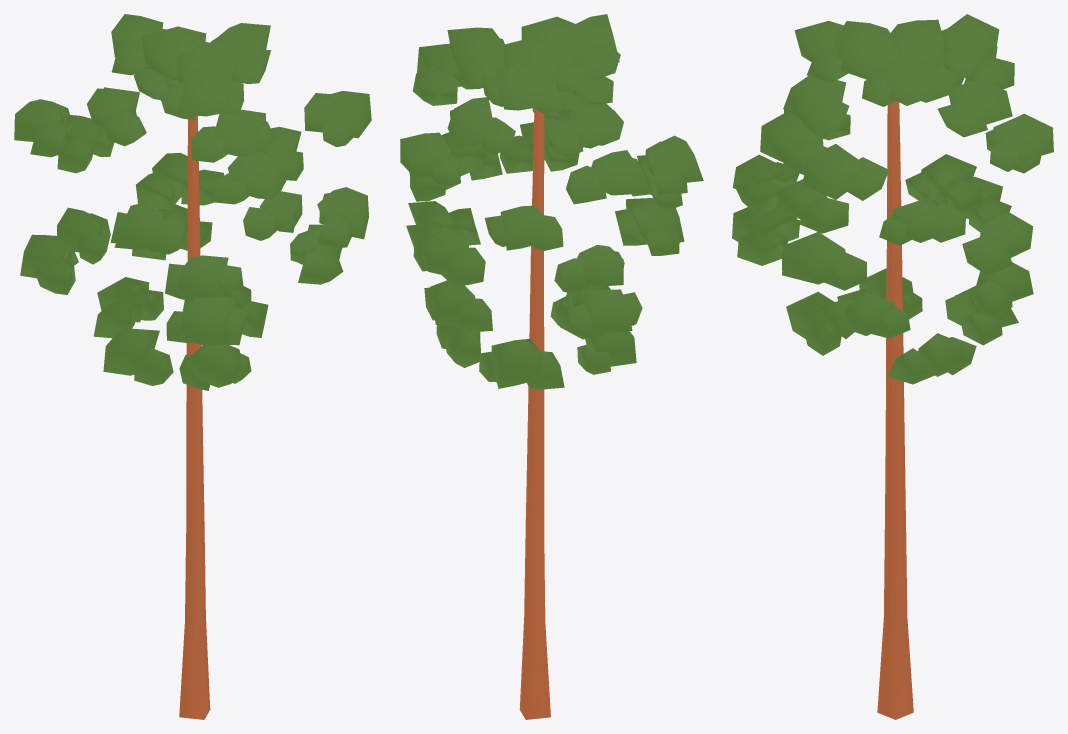
Rendered from Blender_RedPine_2_Far.glb.
3 renders of one model, left to right at view 1: azimuth 30°, elevation 25°; view 2: azimuth 150°, elevation 25°; view 3: azimuth 270°, elevation 25°, orthographic.
Visible parts, largest first — view 1: Blender_RedPine_2_Far; view 2: Blender_RedPine_2_Far; view 3: Blender_RedPine_2_Far.
Boxes of the visible parts, x1=… form: Blender_RedPine_2_Far: x1=14, y1=14, x2=371, y2=719; Blender_RedPine_2_Far: x1=400, y1=14, x2=703, y2=719; Blender_RedPine_2_Far: x1=732, y1=14, x2=1053, y2=719.
Bounding box in the file's own units: 9.74 × 21.92 × 9.29.
